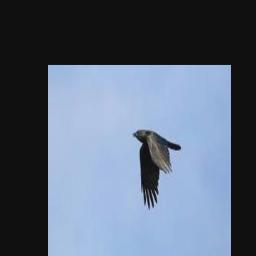Crow: (132, 130, 181, 210)
